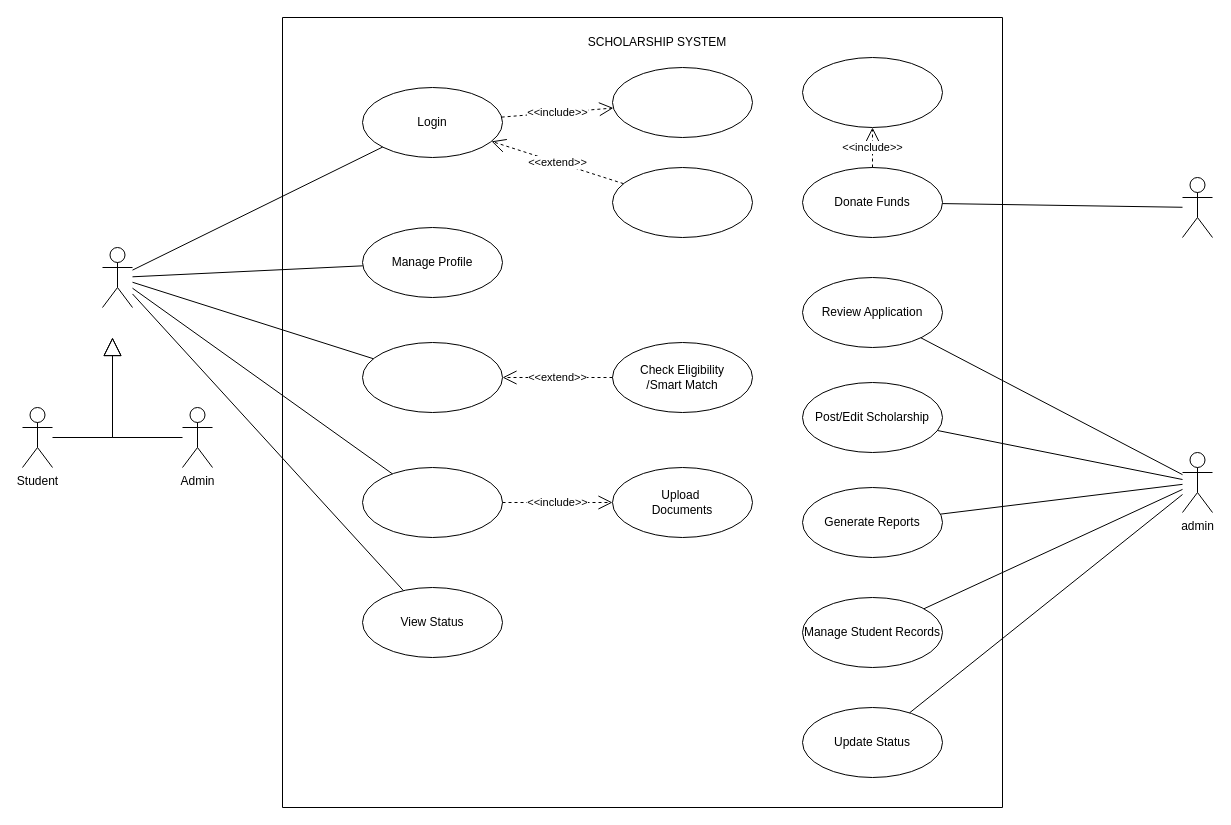
The diagram is 1231 pixels wide and 825 high, and some of its shapes have lost their labels. The centre of each missing label's shape, as x and y in pixels:
"Browse / Filter Scholarships" belongs at point (432, 377).
"Donor" belongs at point (1197, 207).
"Login Failure" belongs at point (682, 202).
"Submit Application" belongs at point (432, 502).
"User" belongs at point (117, 277).
"Verify Password" belongs at point (682, 102).
"View Fund Breakdown" belongs at point (872, 92).
